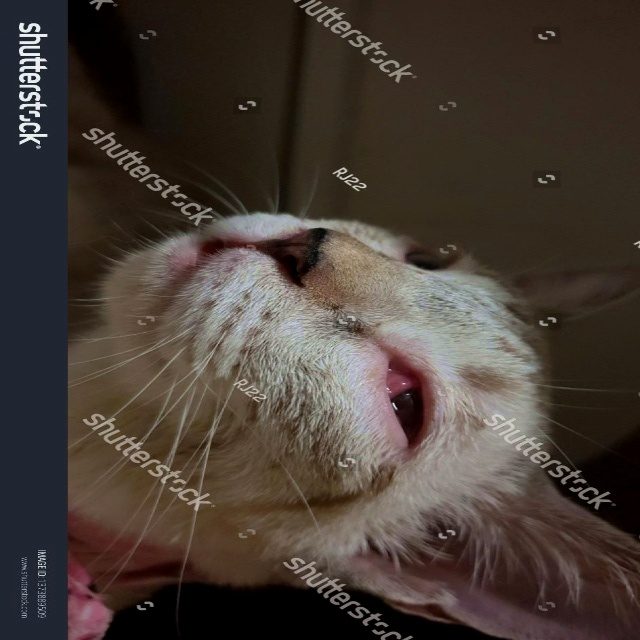eye_infection: (382, 362, 435, 450)
